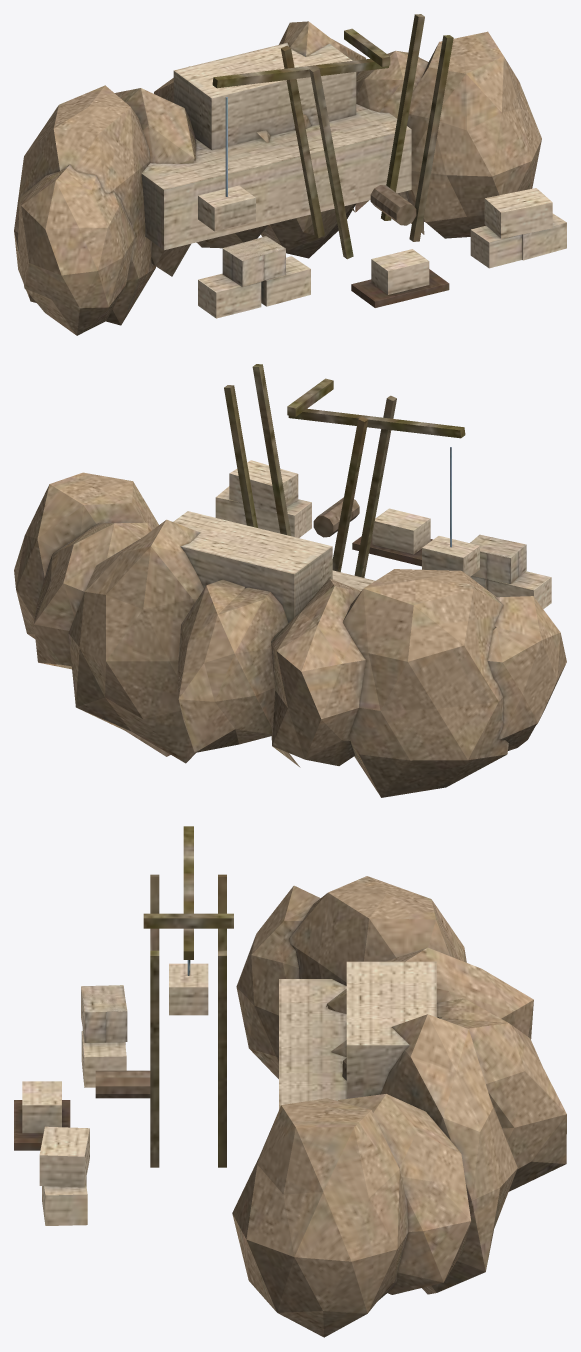
Rendered from quarry.glb.
The picture shows the model from 3 angles, top to bottom: view 1: azimuth 30°, elevation 25°; view 2: azimuth 150°, elevation 25°; view 3: azimuth 270°, elevation 25°; orthographic projection. The views are drawn at different scales.
Visible parts, largest first — view 1: quarry; view 2: quarry; view 3: quarry.
Boxes of the visible parts, x1,y1,x2,y2 form: quarry: (14,14,566,335); quarry: (14,364,566,797); quarry: (14,826,566,1337).
Size of the model in its own units: 12.59 by 6.97 by 9.81.
1 material, 1 textured.
